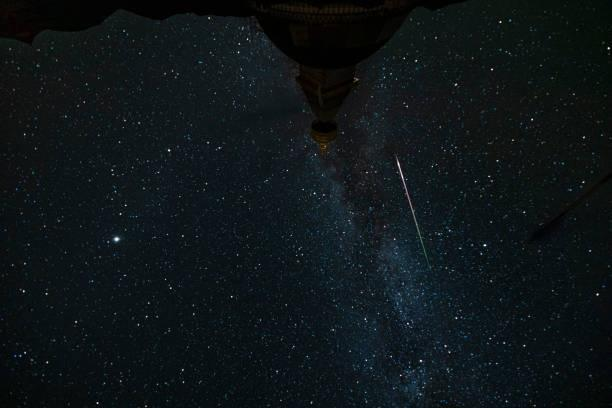meteorite: (383, 145, 446, 286)
